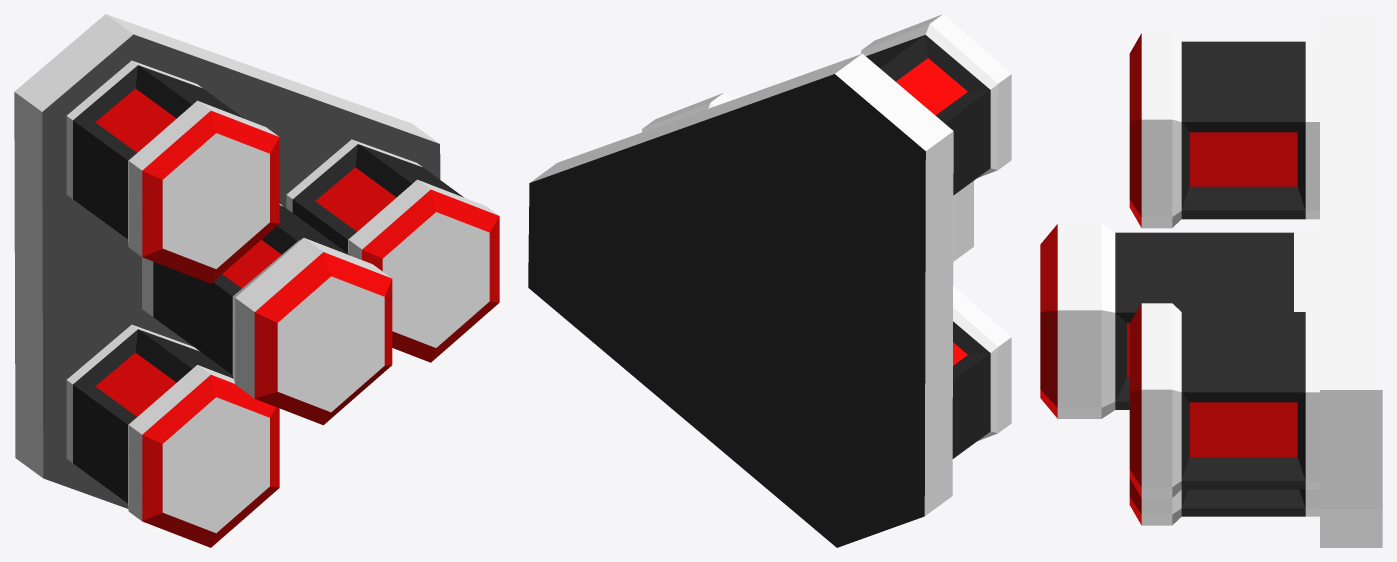
Rendered from compositeMaterialStorage.obj.
3 views of the same model, side by side, from view 1: azimuth 30°, elevation 25°; view 2: azimuth 150°, elevation 25°; view 3: azimuth 270°, elevation 25° (orthographic). The views are drawn at different scales.
Parts seen in each view (by area): view 1: Cylinder.006_Cylinder.003, Cylinder.007_Cylinder.001, Cylinder.008_Cylinder.001, Cylinder.001, Cylinder.002_Cylinder.001; view 2: Cylinder.006_Cylinder.003, Cylinder.007_Cylinder.001, Cylinder.008_Cylinder.001, Cylinder.001, Cylinder.002_Cylinder.001; view 3: Cylinder.007_Cylinder.001, Cylinder.002_Cylinder.001, Cylinder.006_Cylinder.003, Cylinder.001, Cylinder.008_Cylinder.001.
Part boxes in pixels (x1,y1,x2,y2): Cylinder.006_Cylinder.003: [14, 14, 440, 508]; Cylinder.007_Cylinder.001: [66, 60, 279, 283]; Cylinder.008_Cylinder.001: [66, 324, 279, 547]; Cylinder.001: [142, 204, 392, 425]; Cylinder.002_Cylinder.001: [286, 139, 499, 362]; Cylinder.006_Cylinder.003: [528, 53, 953, 547]; Cylinder.007_Cylinder.001: [861, 14, 1011, 195]; Cylinder.008_Cylinder.001: [952, 286, 1011, 458]; Cylinder.001: [953, 181, 973, 261]; Cylinder.002_Cylinder.001: [642, 93, 731, 132]; Cylinder.007_Cylinder.001: [1129, 33, 1319, 228]; Cylinder.002_Cylinder.001: [1129, 303, 1319, 498]; Cylinder.006_Cylinder.003: [1320, 14, 1382, 547]; Cylinder.001: [1040, 223, 1319, 418]; Cylinder.008_Cylinder.001: [1129, 478, 1319, 525].
Size of the model in its own units: 1.57 by 1.79 by 1.04.
